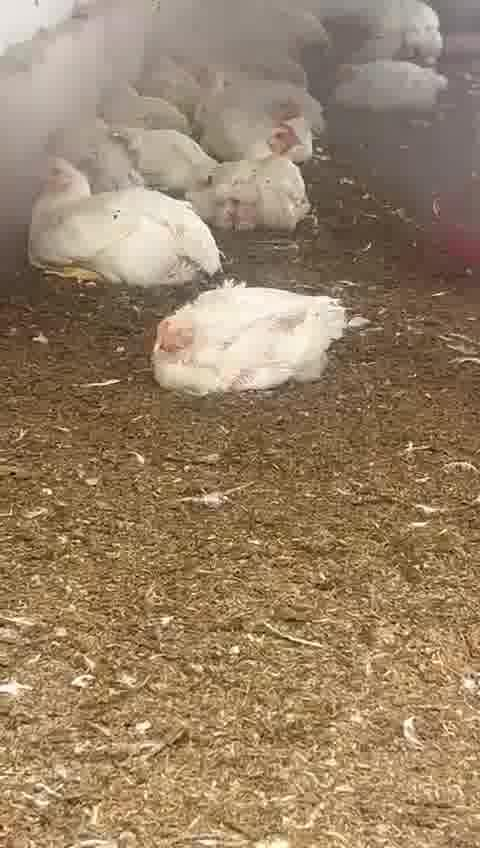AbNormal: (24, 152, 224, 281), (152, 294, 343, 394), (202, 127, 309, 234), (327, 55, 447, 116)
